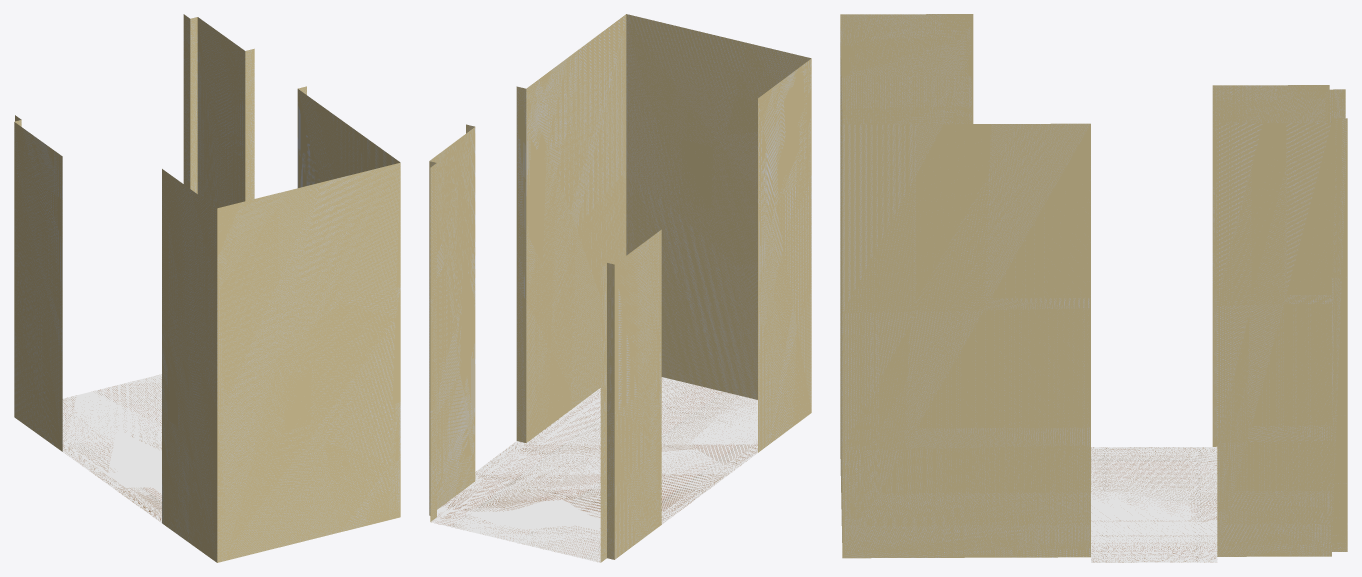
The model's file is COM006.obj.
The picture shows the model from 3 angles, left to right: view 1: azimuth 30°, elevation 25°; view 2: azimuth 150°, elevation 25°; view 3: azimuth 270°, elevation 25°; orthographic projection. The views are drawn at different scales.
Parts seen in each view (by area): view 1: Mesh1 COM006 Model; view 2: Mesh1 COM006 Model; view 3: Mesh1 COM006 Model.
Part boxes in pixels (x1,y1,x2,y2): Mesh1 COM006 Model: (14,14,400,562); Mesh1 COM006 Model: (429,14,811,562); Mesh1 COM006 Model: (840,14,1347,562).
Size of the model in its own units: 2.08 by 3.6 by 3.82.
Materials: 3 (1 with a texture image).
